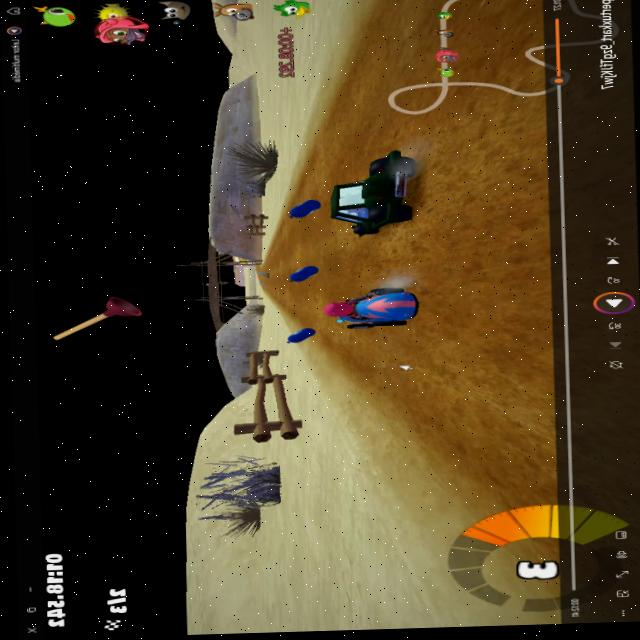enemy_kart: (314, 149, 426, 247)
nitro: (287, 187, 322, 225), (285, 262, 323, 288), (285, 326, 319, 347)
player_kart: (318, 283, 442, 332)
track: (433, 102, 556, 331), (353, 330, 555, 412), (419, 412, 551, 493), (321, 70, 388, 148), (274, 290, 311, 319), (284, 231, 323, 256), (256, 268, 285, 289), (264, 241, 284, 266)
